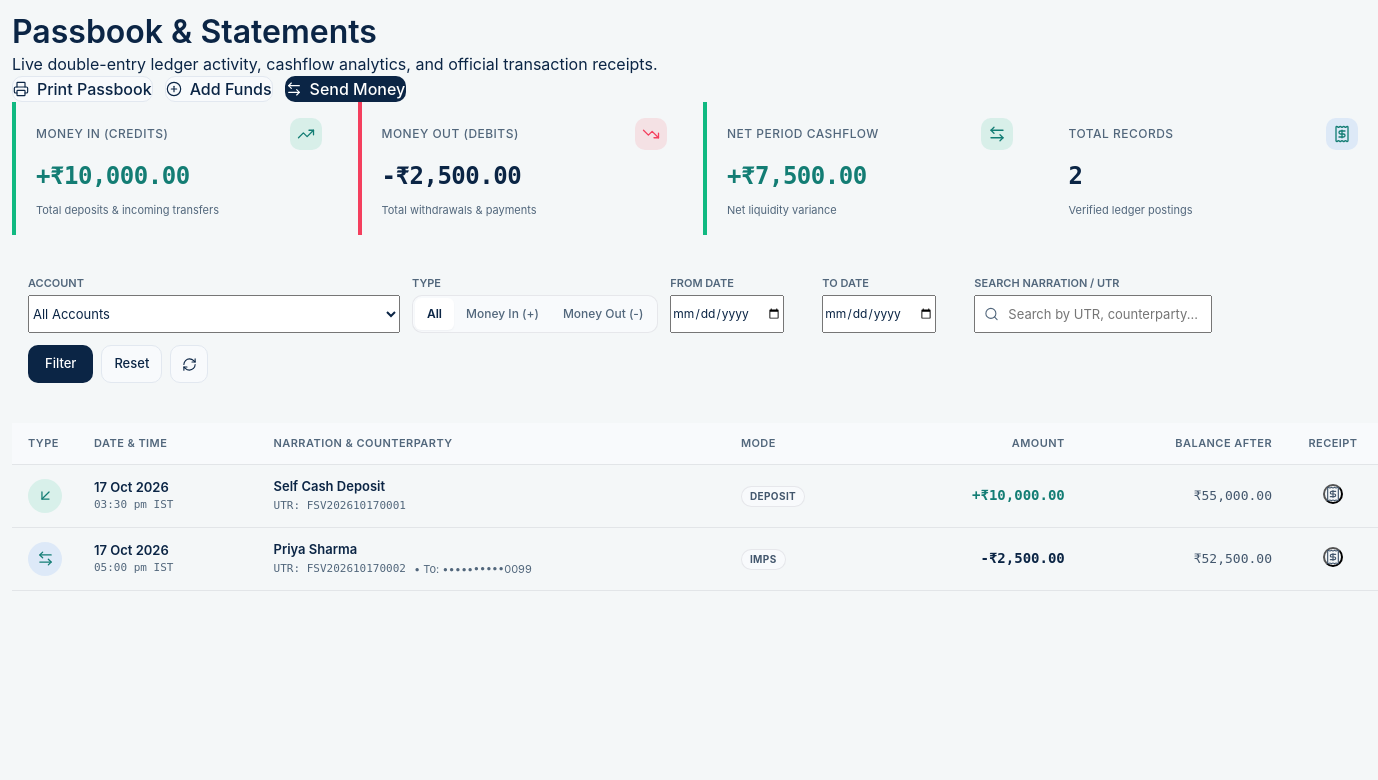
Scenario: TransactionsPage (Passbook & Statements) › does not show a fallback receipt when the official receipt request fails
The image size is (1378, 780).
Expected: the text "Self Cash Deposit" is shown, [274, 478, 385, 494]
Step 1. Click the button titled "View Official Receipt" → {"x": 1333, "y": 494}, box [1323, 484, 1343, 504]
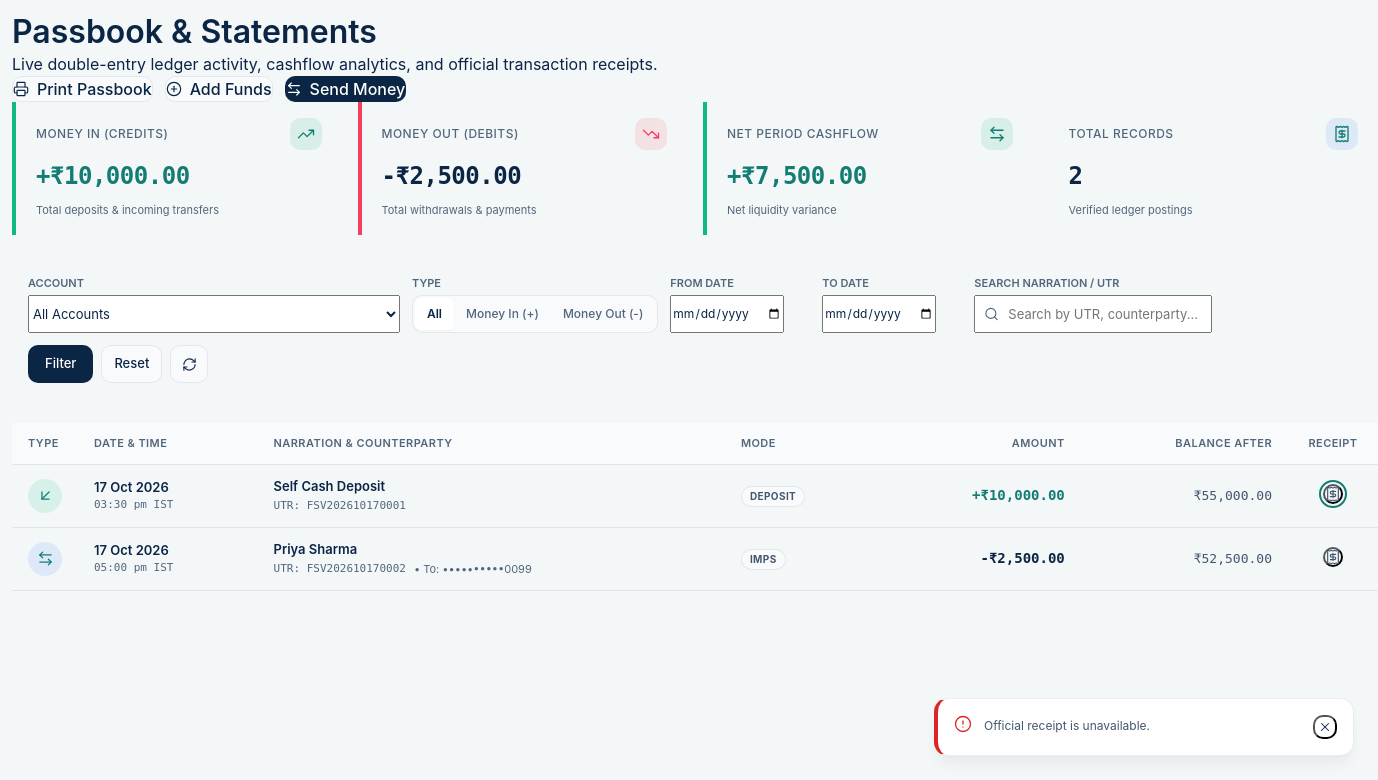
Expected: the text "Official receipt is unavailable." is shown, [984, 718, 1150, 733]
